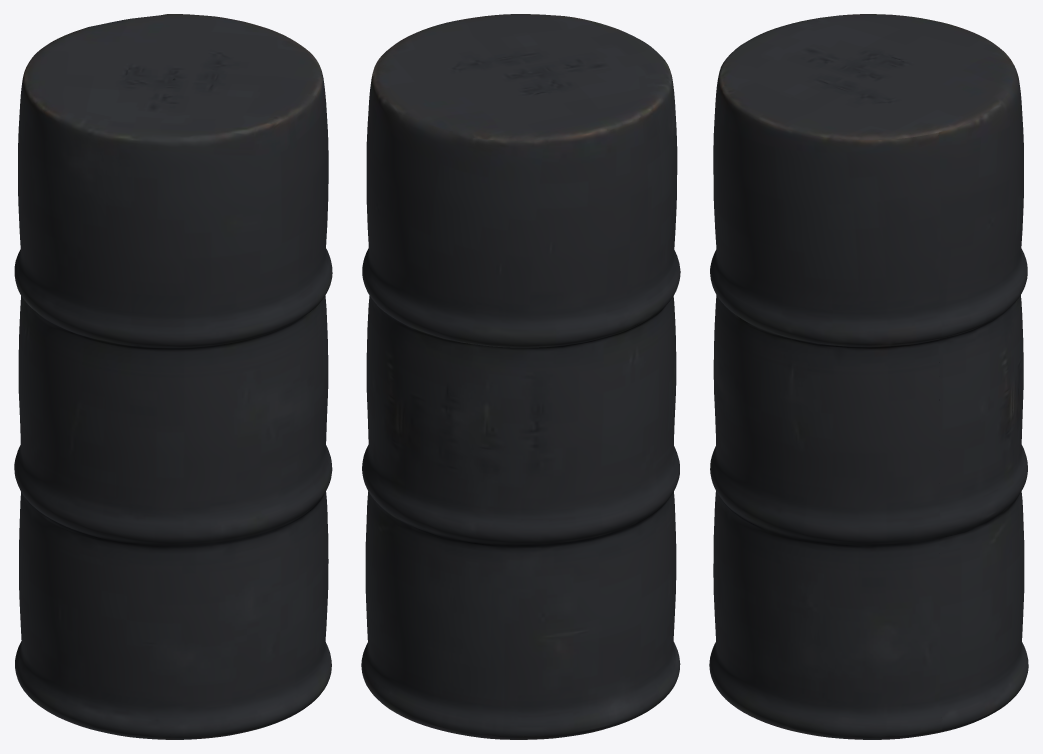
Rendered from raingauge.glb.
3 renders of one model, left to right at view 1: azimuth 30°, elevation 25°; view 2: azimuth 150°, elevation 25°; view 3: azimuth 270°, elevation 25°, orthographic.
Parts seen in each view (by area): view 1: Object_2; view 2: Object_2; view 3: Object_2.
Part boxes in pixels (x1,y1,x2,y2): Object_2: (14,14,332,739); Object_2: (361,14,680,739); Object_2: (709,14,1028,739).
Bounding box in the file's own units: 0.1532 × 0.3206 × 0.1536.
Materials: 1 (1 with a texture image).
